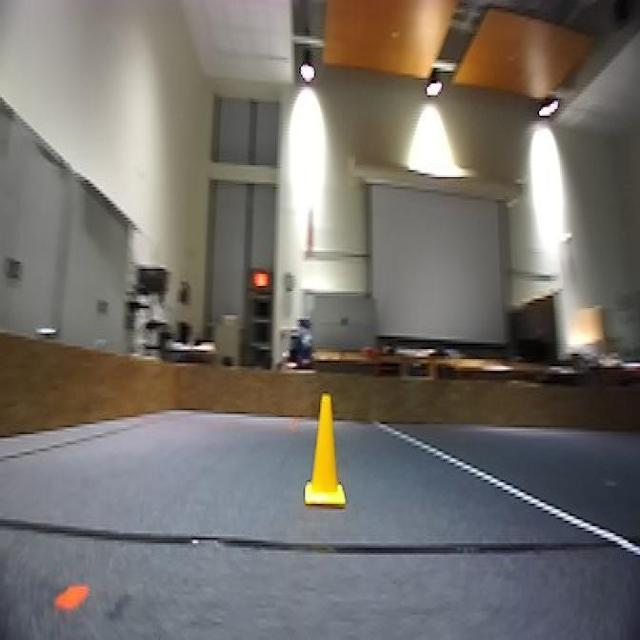frc_cone: (305, 386, 352, 509)
